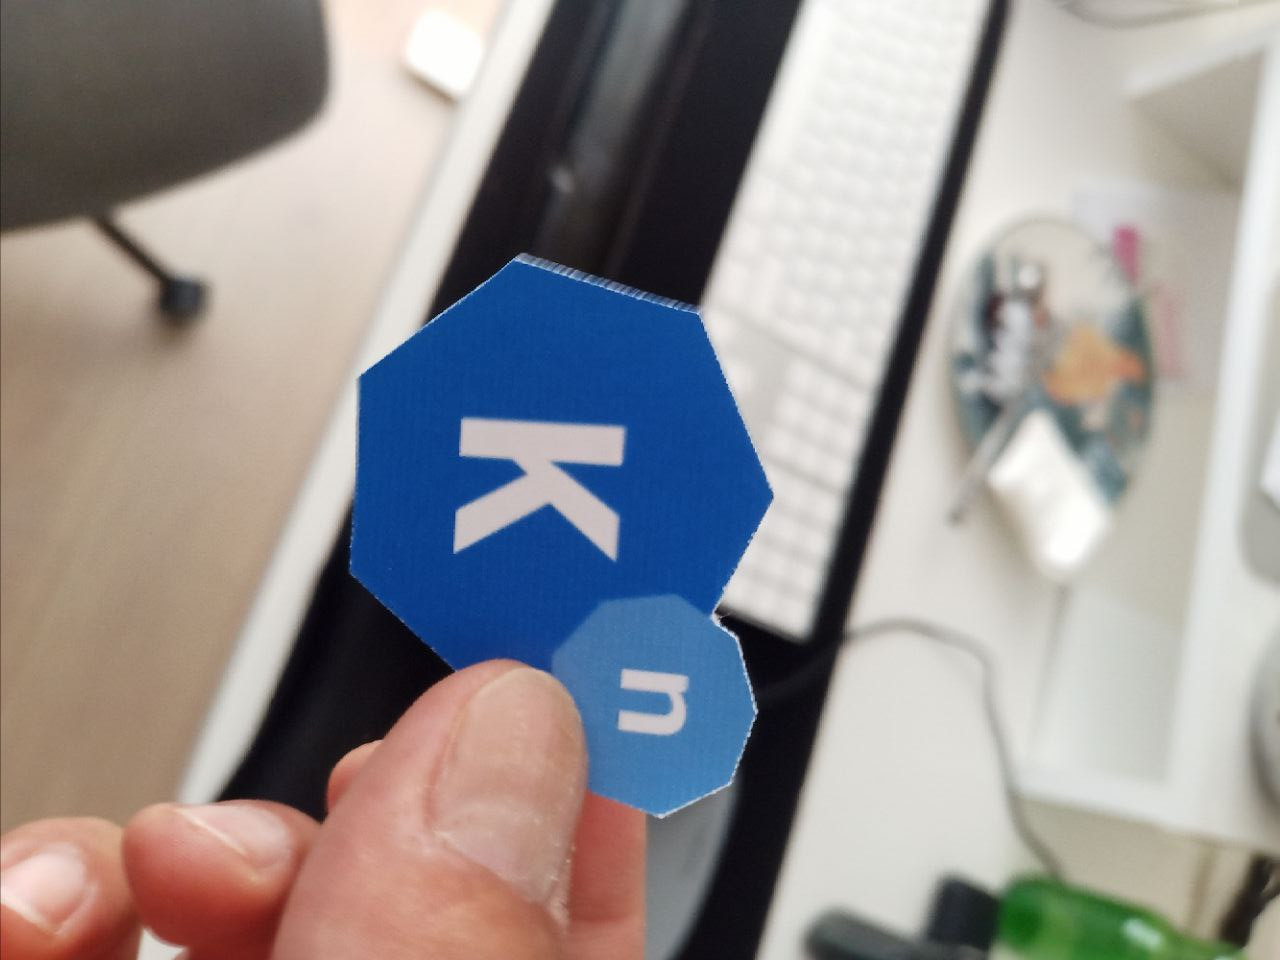knative: (353, 249, 777, 821)
